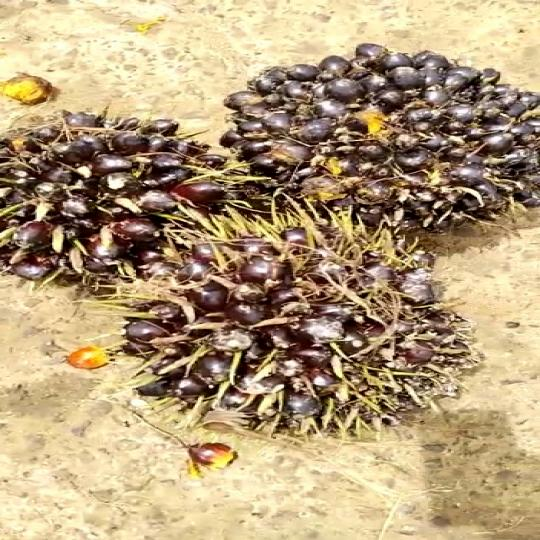mentah: (125, 212, 480, 444), (203, 35, 540, 252), (0, 97, 248, 289)
